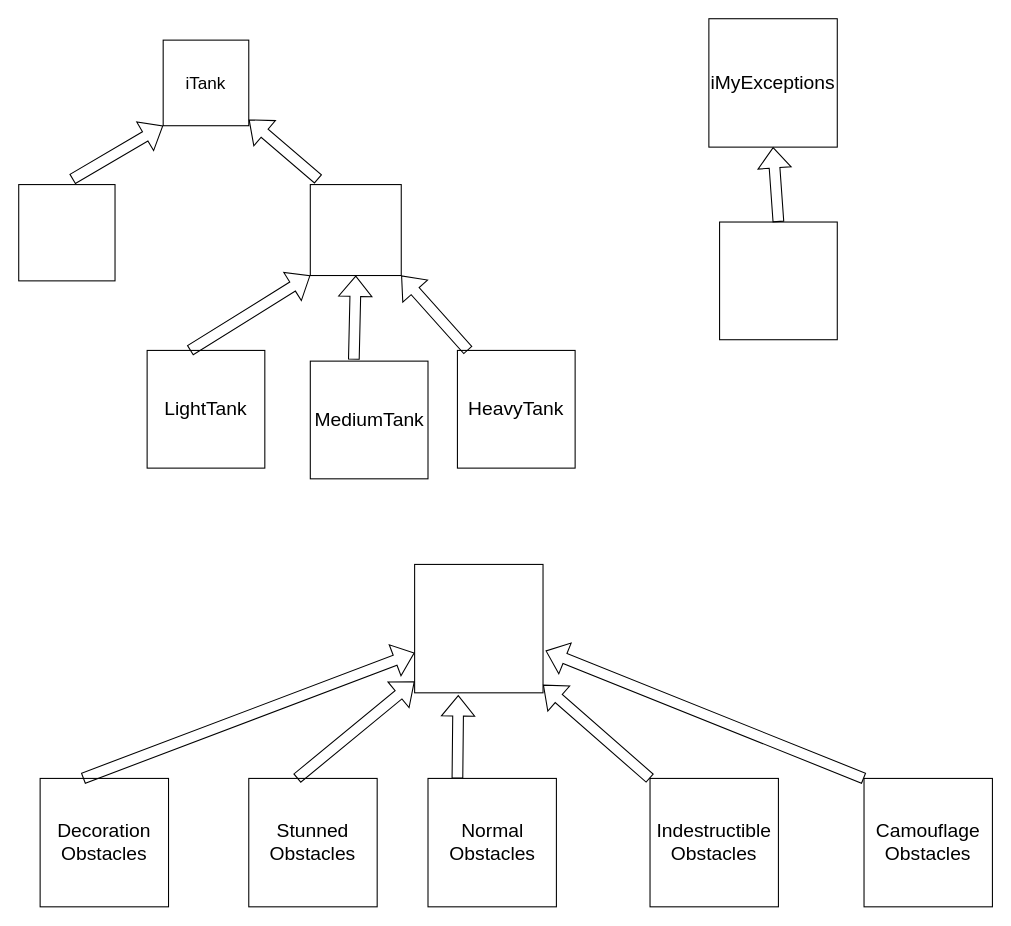
Image size: 1011x926. Some labels were removed from this diagram. Here are the shapes that lost their labels. From the top down, the centre of each, then its label:
(x=66, y=232): PlayerTank
(x=355, y=230): BotTank
(x=778, y=280): MyExceptions
(x=478, y=628): IObstacles
